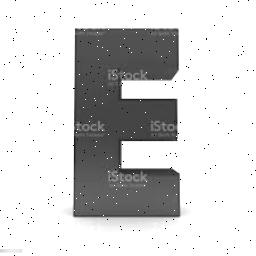e: (66, 24, 188, 224)
